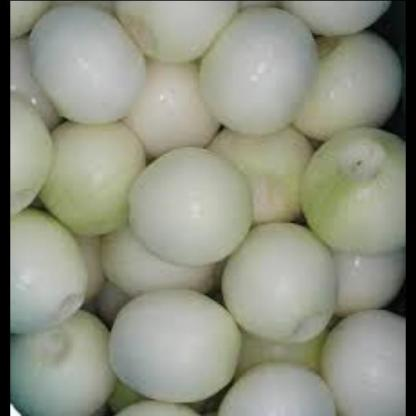onion: (11, 0, 401, 416)
